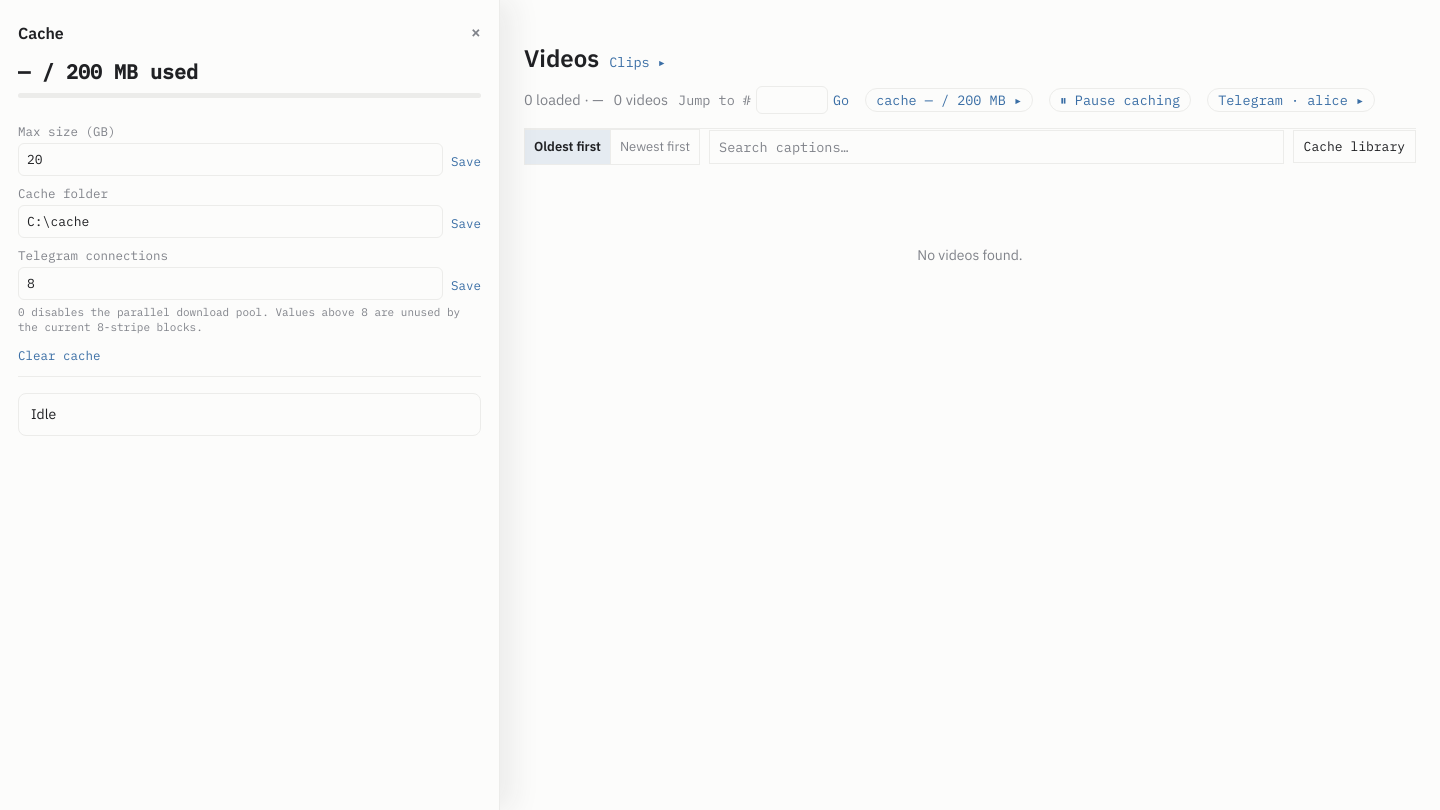
App cache status › closing the cache drawer hides it and lifts the content-shift class
This screenshot has width=1440, height=810.
Click the button with class "cache-drawer-close" at (476, 33), box x1=471 y1=20 x2=481 y2=46
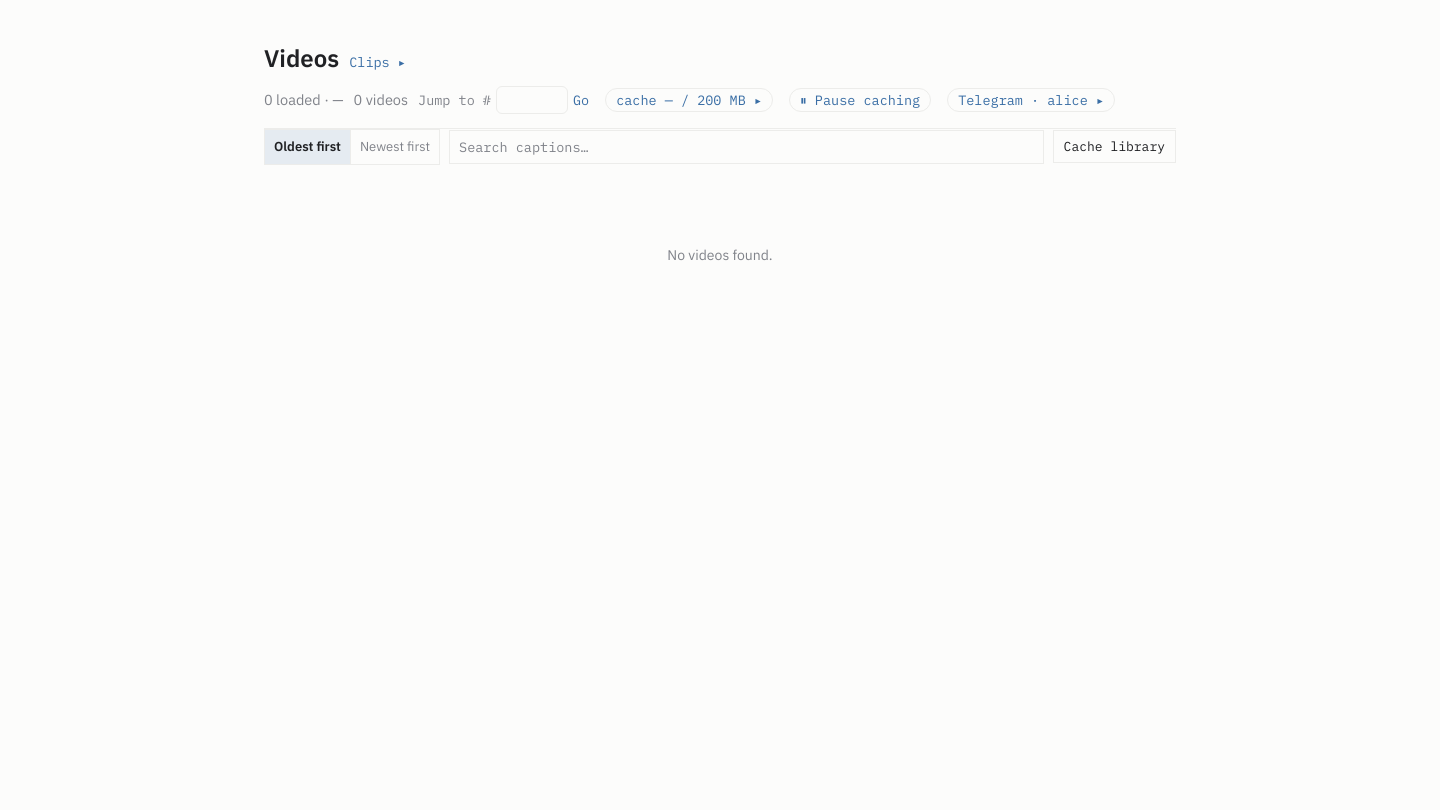
Now the element with class "cache-drawer" is gone
